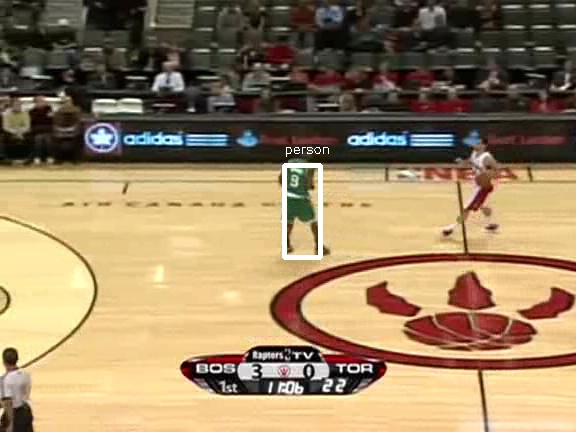person: (281, 155, 315, 236), (280, 155, 314, 236), (282, 155, 316, 236), (281, 154, 315, 235), (281, 156, 315, 237)
target_negative: (57, 299, 400, 337), (275, 97, 318, 359), (185, 357, 499, 391), (503, 305, 548, 393), (270, 248, 275, 361), (530, 350, 556, 364)
